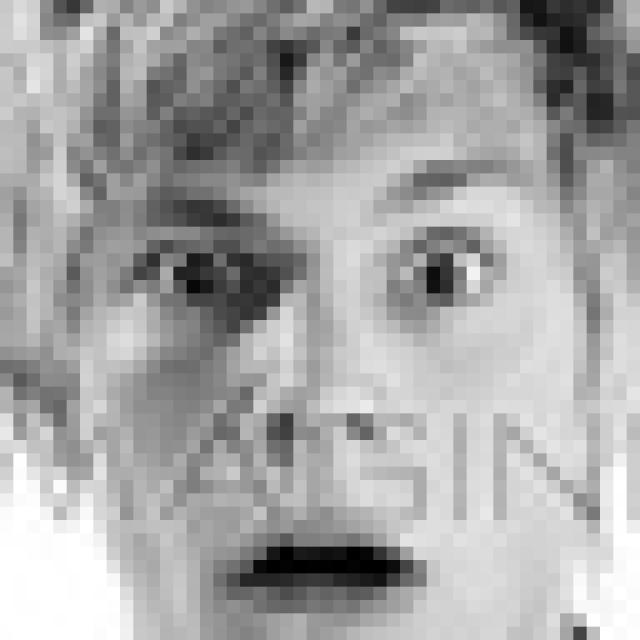surprise: (113, 163, 556, 640)
